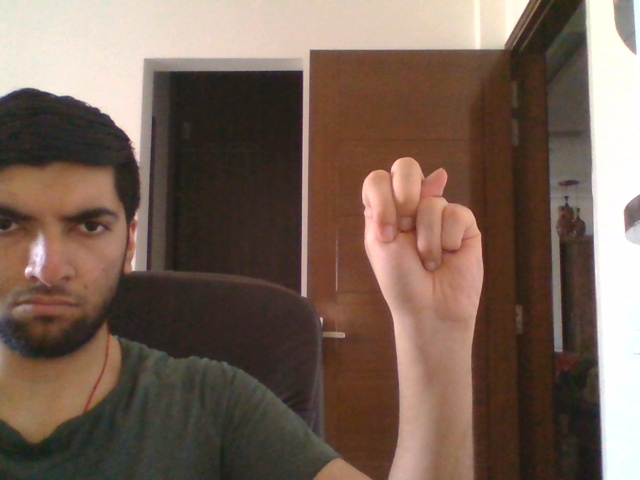LetterN: (360, 155, 485, 327)
